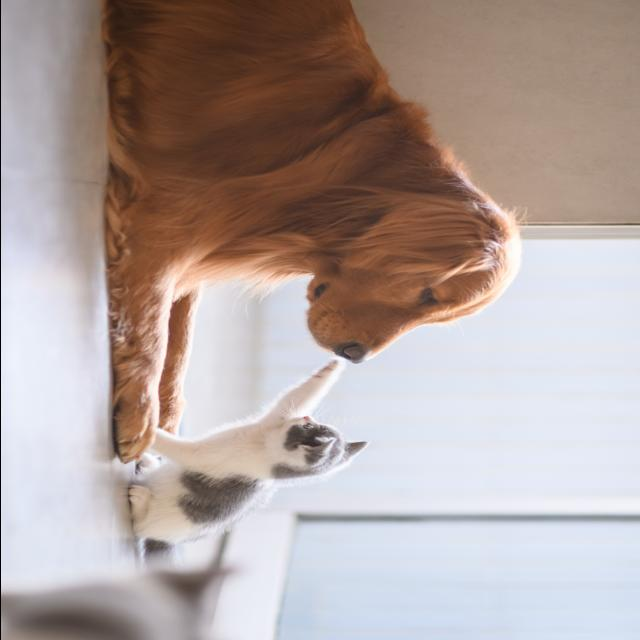cat: (123, 361, 384, 569)
dog: (107, 1, 534, 367)
